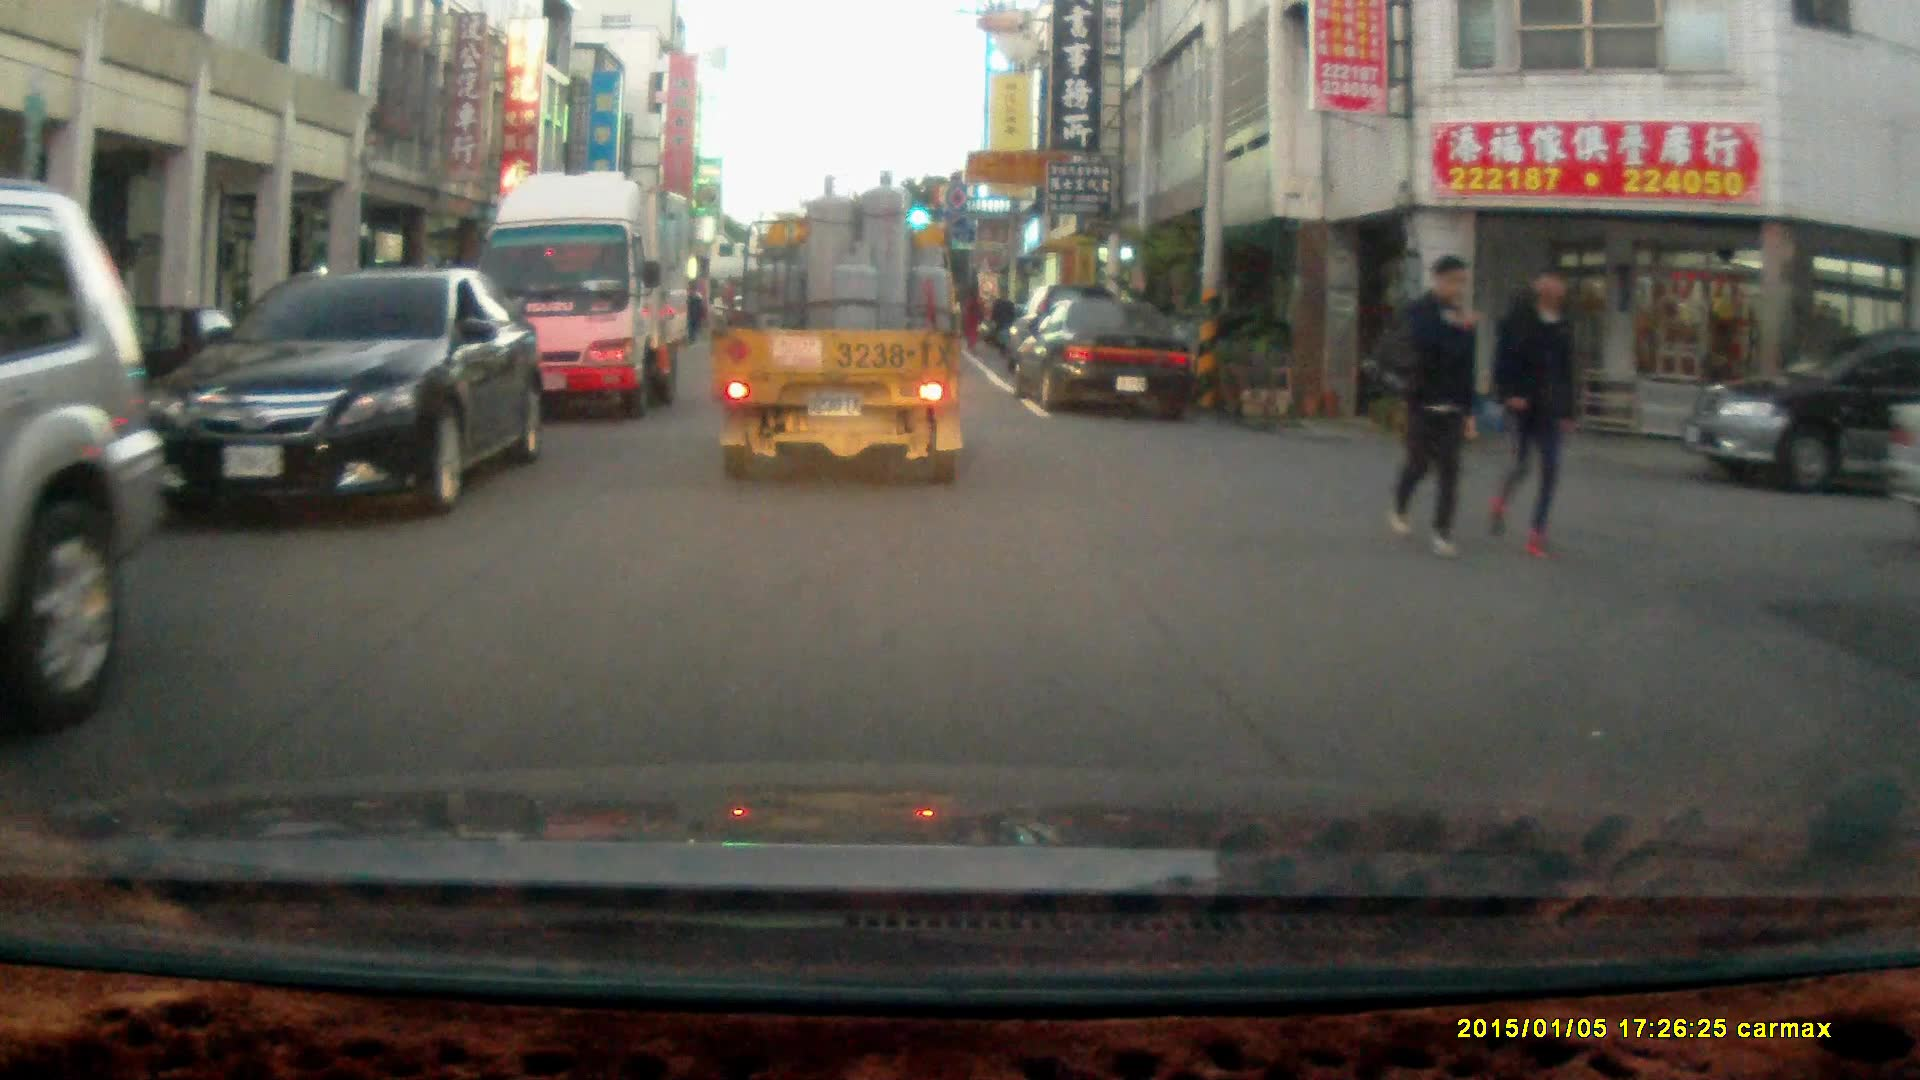pedestrian: (1489, 260, 1585, 567), (1388, 250, 1481, 559), (986, 283, 1015, 359), (674, 283, 706, 346), (960, 279, 985, 354)
vehicle: (136, 266, 553, 516), (1, 182, 170, 724), (715, 169, 970, 490), (473, 168, 693, 424), (1011, 299, 1199, 415)
